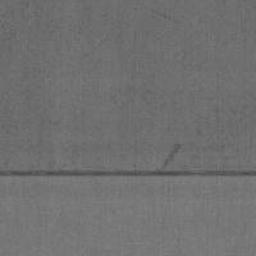Welding line: (0, 169, 256, 178)
